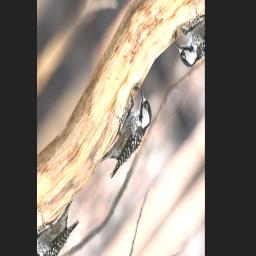Woodpecker: (92, 82, 158, 184)
